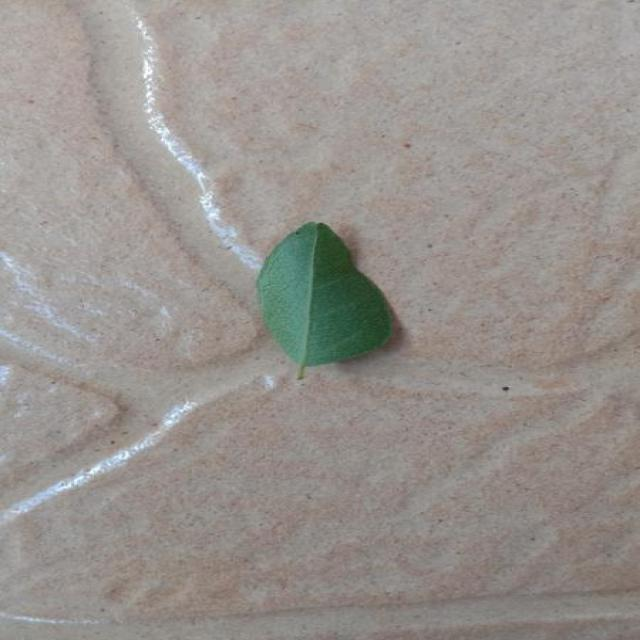curry: (257, 222, 393, 378)
